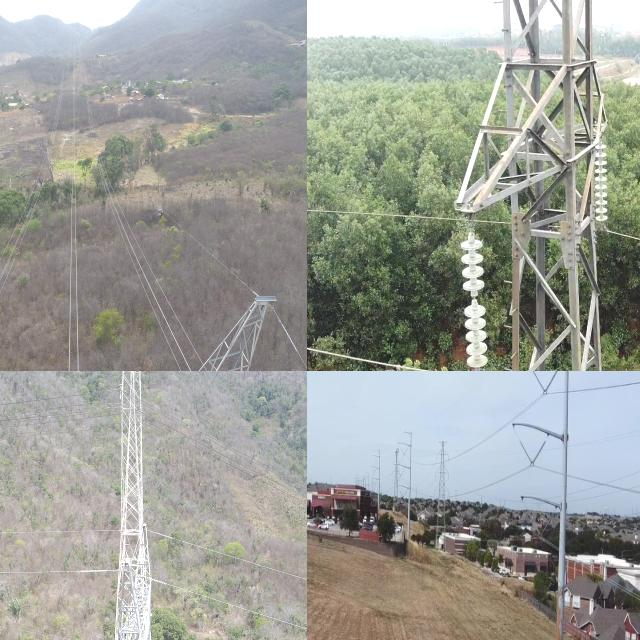杆塔: (449, 0, 628, 371), (0, 277, 307, 371), (113, 371, 152, 640), (432, 438, 453, 556), (392, 444, 401, 514)
正常电缆: (307, 200, 640, 250), (158, 574, 307, 637), (0, 566, 108, 580), (0, 522, 62, 538)
正常绝缘子: (455, 223, 490, 371), (592, 128, 612, 234), (536, 509, 557, 543), (525, 506, 544, 542), (528, 437, 548, 471), (517, 436, 535, 469), (541, 371, 560, 401), (532, 371, 548, 397)
绝缘子破损: (470, 291, 478, 305)
